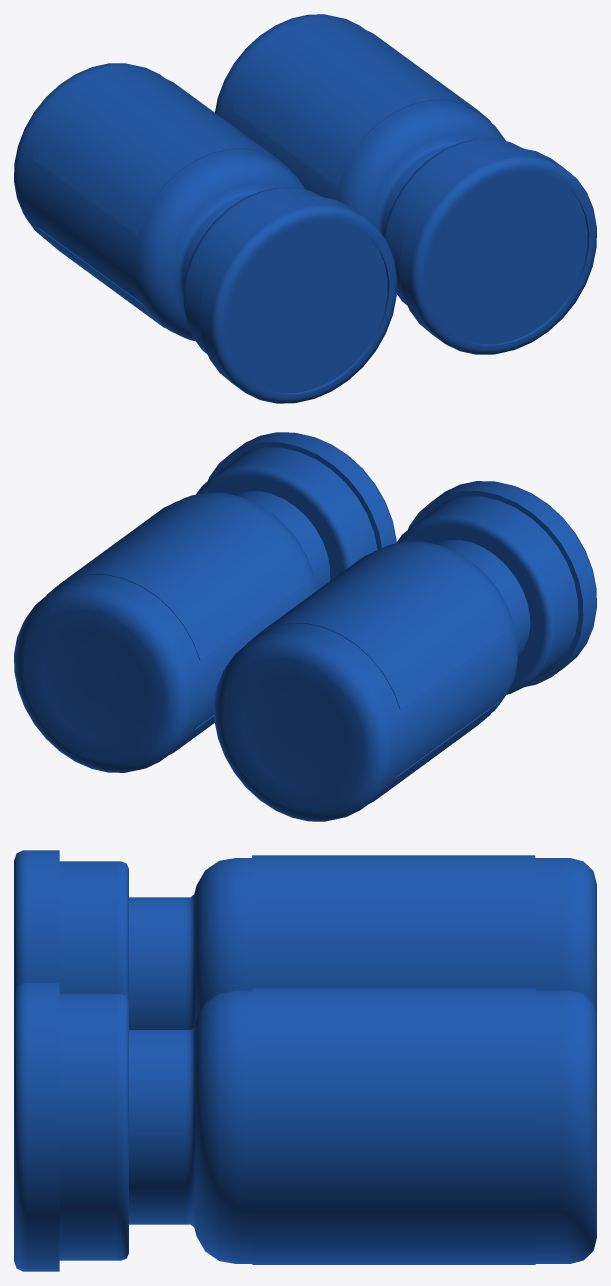
The model's file is vaccine.obj.
3 renders of one model, top to bottom at view 1: azimuth 30°, elevation 25°; view 2: azimuth 150°, elevation 25°; view 3: azimuth 270°, elevation 25°, orthographic. The views are drawn at different scales.
Visible parts, largest first — view 1: SARS_CoV_2_Vaccine_Red_01, SARS_CoV_2_Vaccine_Blue_02; view 2: SARS_CoV_2_Vaccine_Red_01, SARS_CoV_2_Vaccine_Blue_02; view 3: SARS_CoV_2_Vaccine_Blue_02, SARS_CoV_2_Vaccine_Red_01.
Part boxes in pixels (x1,y1,x2,y2): SARS_CoV_2_Vaccine_Red_01: (14, 63, 396, 403); SARS_CoV_2_Vaccine_Blue_02: (215, 14, 596, 354); SARS_CoV_2_Vaccine_Red_01: (214, 481, 596, 821); SARS_CoV_2_Vaccine_Blue_02: (14, 432, 396, 772); SARS_CoV_2_Vaccine_Blue_02: (14, 983, 596, 1271); SARS_CoV_2_Vaccine_Red_01: (14, 850, 596, 1029).
Bounding box in the file's own units: 5.12 × 2.45 × 4.96.
